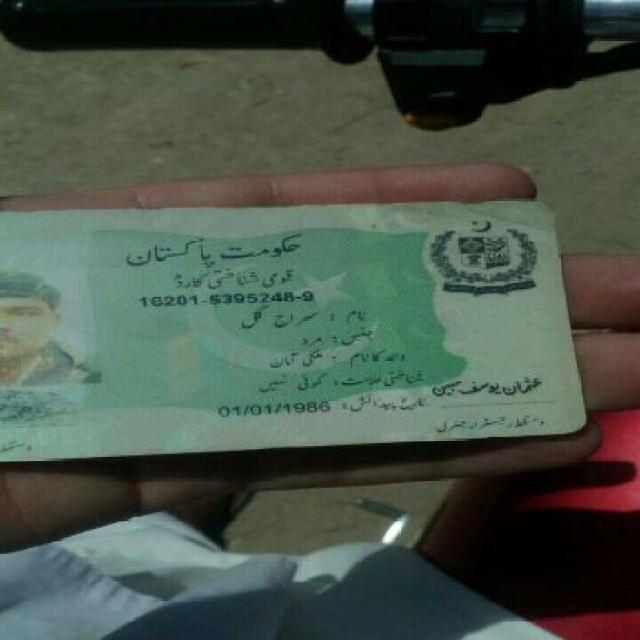Front: (3, 202, 599, 463)
